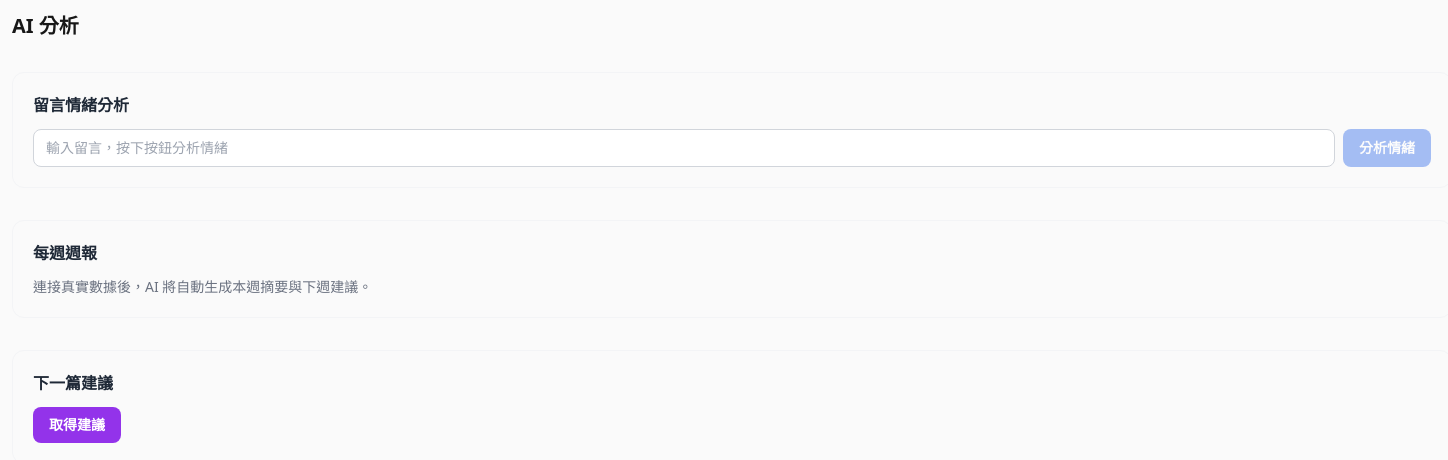
Test: AiAnalysisPage — AI 分析 › shows loading state during sentiment analysis
Type "好棒" into the field with placeholder "輸入留言，按下按鈕分析情緒" at {"x": 684, "y": 148}, box [33,129,1335,167]
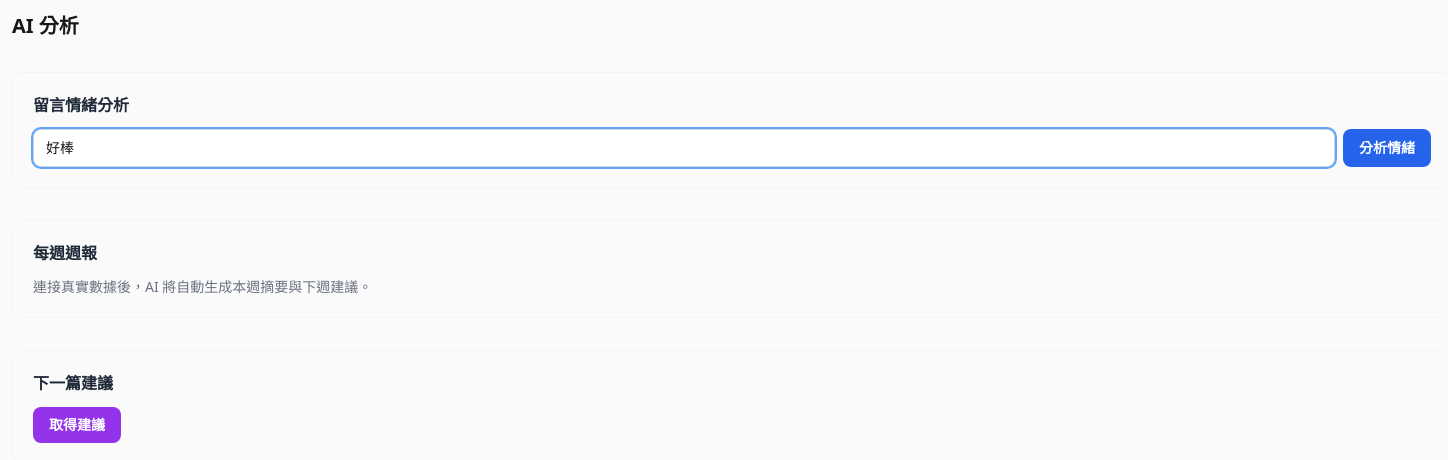
Click the button "分析情緒" at {"x": 1387, "y": 148}, box [1343,129,1431,167]
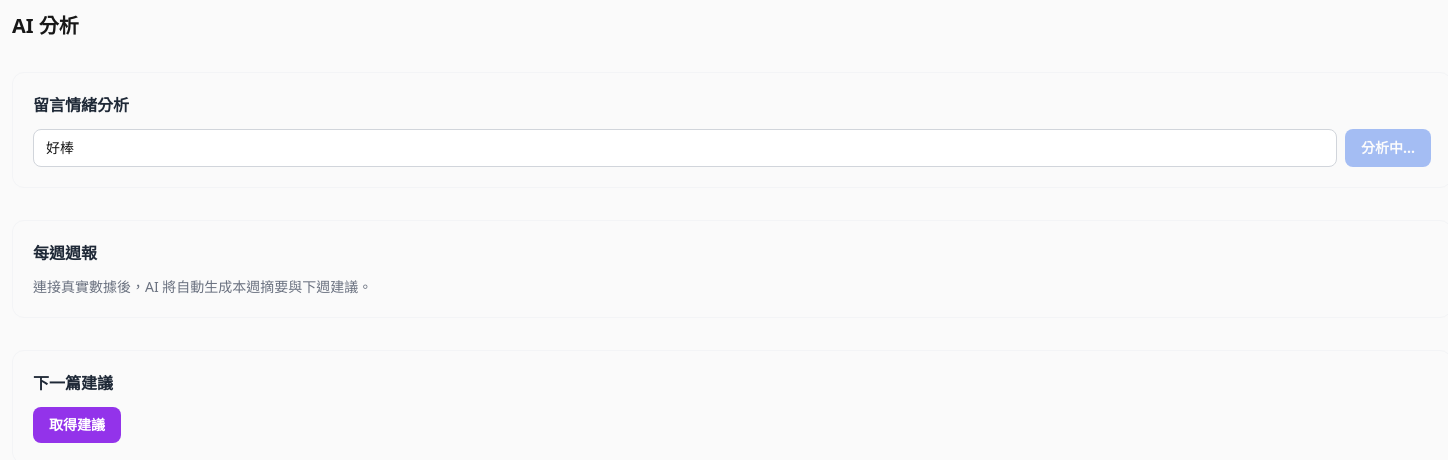
Expected: the button "分析中..." is shown, [1345,129,1431,167]
